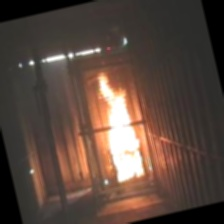fire: (88, 64, 155, 185)
